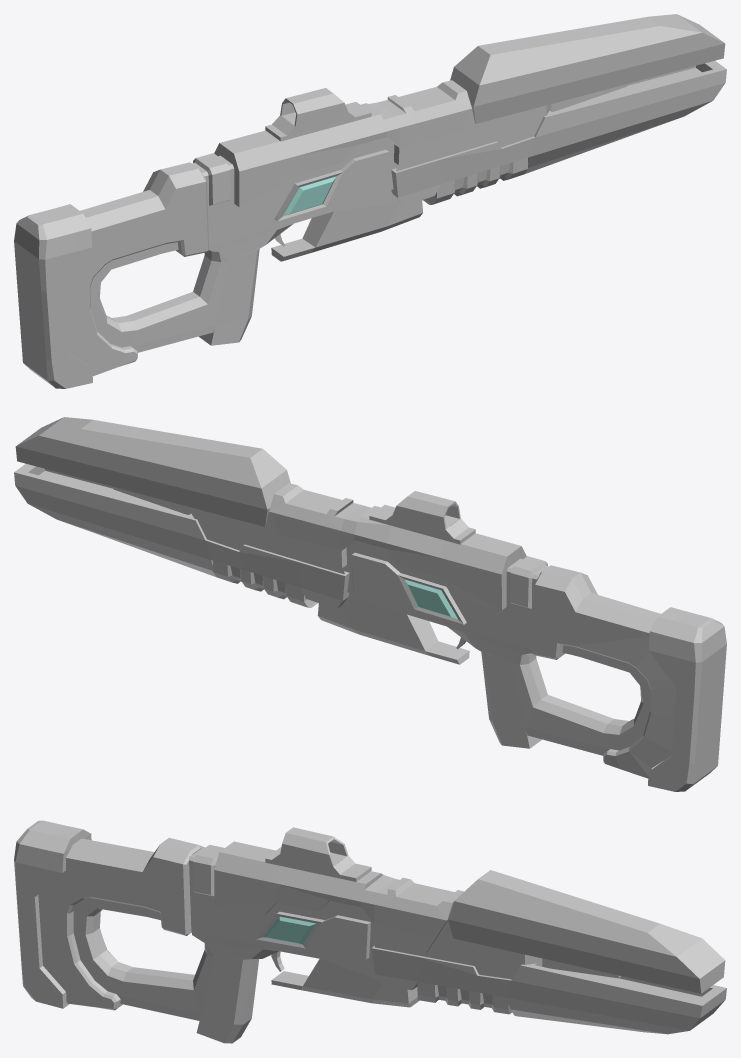
Rendered from SM_Sci_FiWeapon_RifleGun.fbx.
3 views of the same model, one above another, from view 1: azimuth 30°, elevation 25°; view 2: azimuth 150°, elevation 25°; view 3: azimuth 330°, elevation 25° (orthographic).
Parts seen in each view (by area): view 1: SM_Sci_FiWeapon_RifleGun; view 2: SM_Sci_FiWeapon_RifleGun; view 3: SM_Sci_FiWeapon_RifleGun.
Boxes of the visible parts, left/top/right/bottom form: SM_Sci_FiWeapon_RifleGun: left=14, top=14, right=726, bottom=388; SM_Sci_FiWeapon_RifleGun: left=14, top=417, right=726, bottom=791; SM_Sci_FiWeapon_RifleGun: left=14, top=820, right=726, bottom=1043.
Size of the model in its own units: 99.28 by 31.17 by 7.46.
